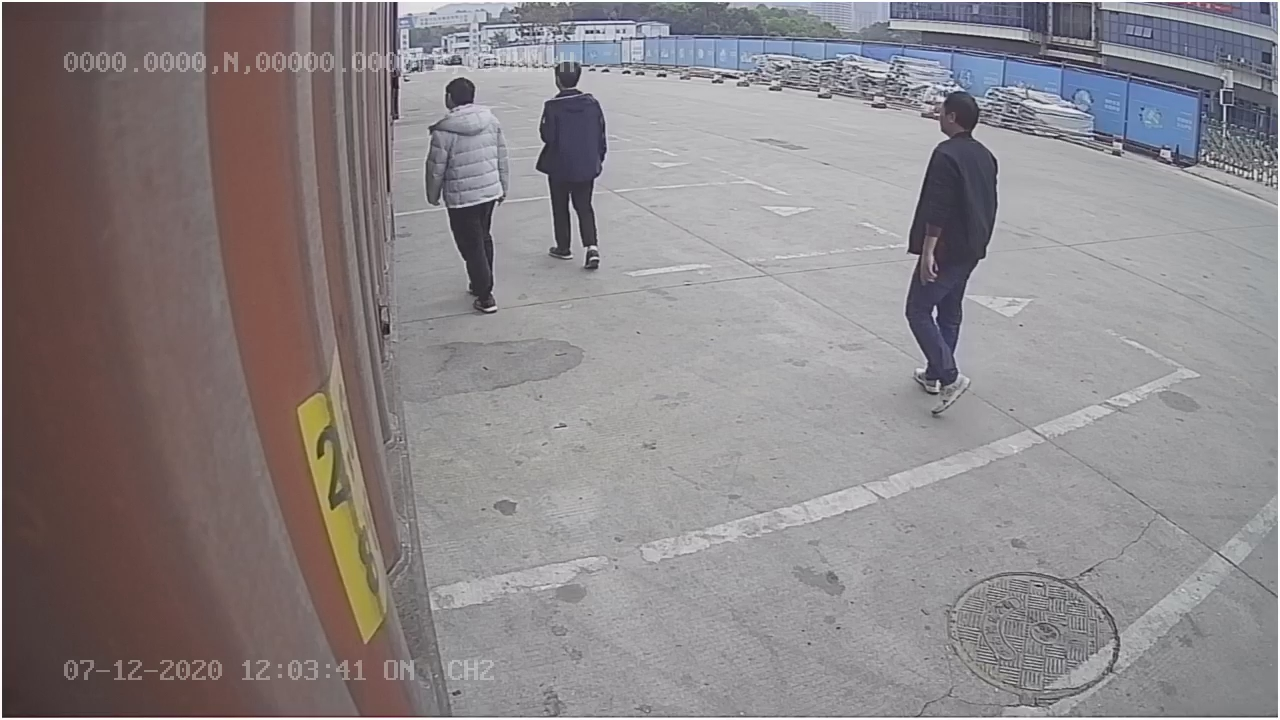person: (899, 87, 1001, 414), (423, 73, 510, 314)
